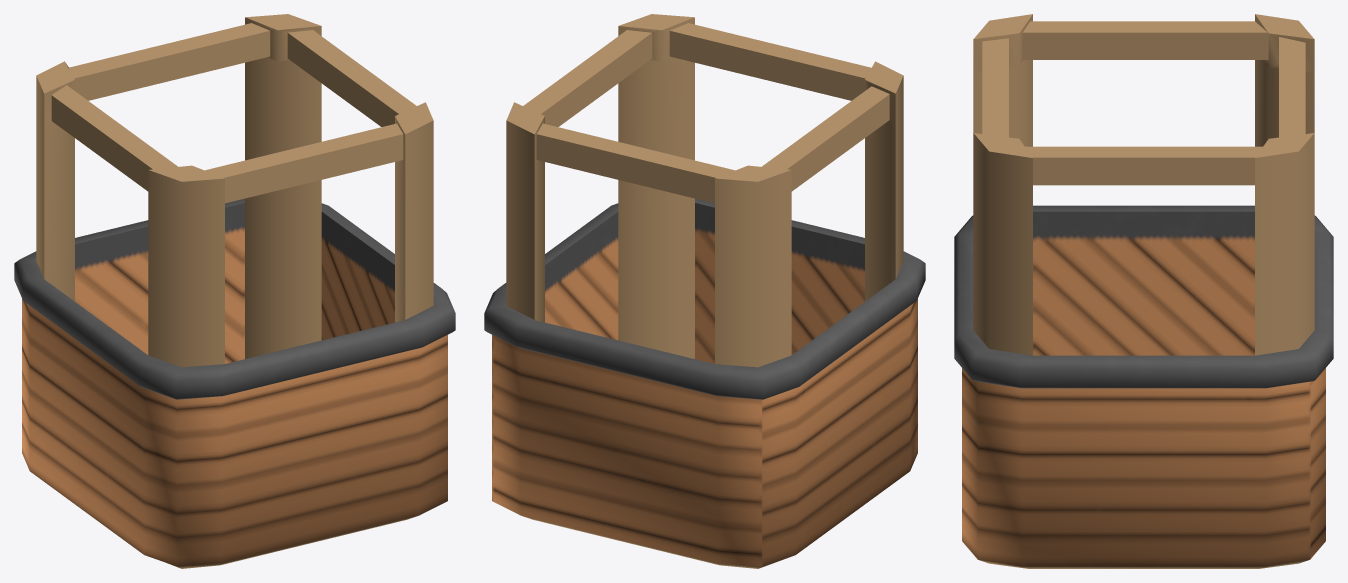
File: OP-Ballon_Basket.fbx
The picture shows the model from 3 angles, left to right: view 1: azimuth 30°, elevation 25°; view 2: azimuth 150°, elevation 25°; view 3: azimuth 270°, elevation 25°; orthographic projection. The views are drawn at different scales.
Visible parts, largest first — view 1: Cube.012; view 2: Cube.012; view 3: Cube.012.
Boxes of the visible parts, box(x1,y1,x2,y2) form: Cube.012: box(14, 14, 455, 568); Cube.012: box(484, 14, 925, 568); Cube.012: box(954, 14, 1333, 568).
Bounding box in the file's own units: 200 × 240 × 200.
